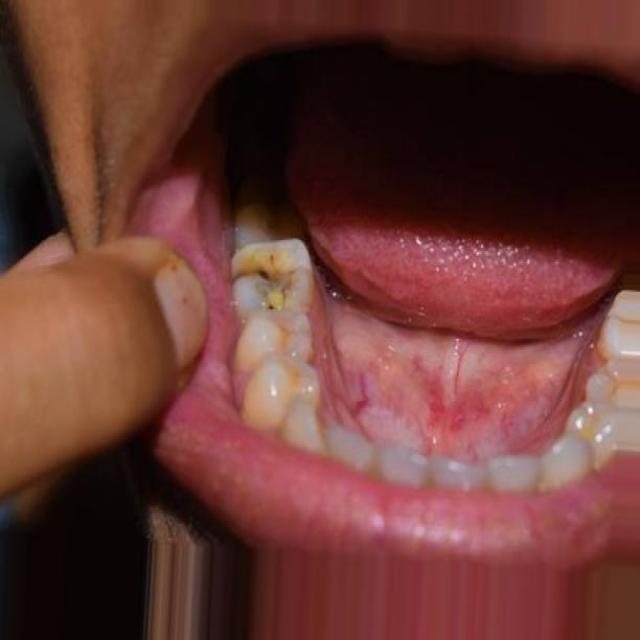caries: (233, 234, 307, 326)
